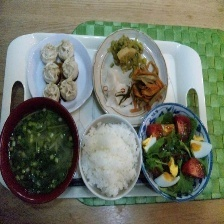rice: (79, 120, 139, 197)
